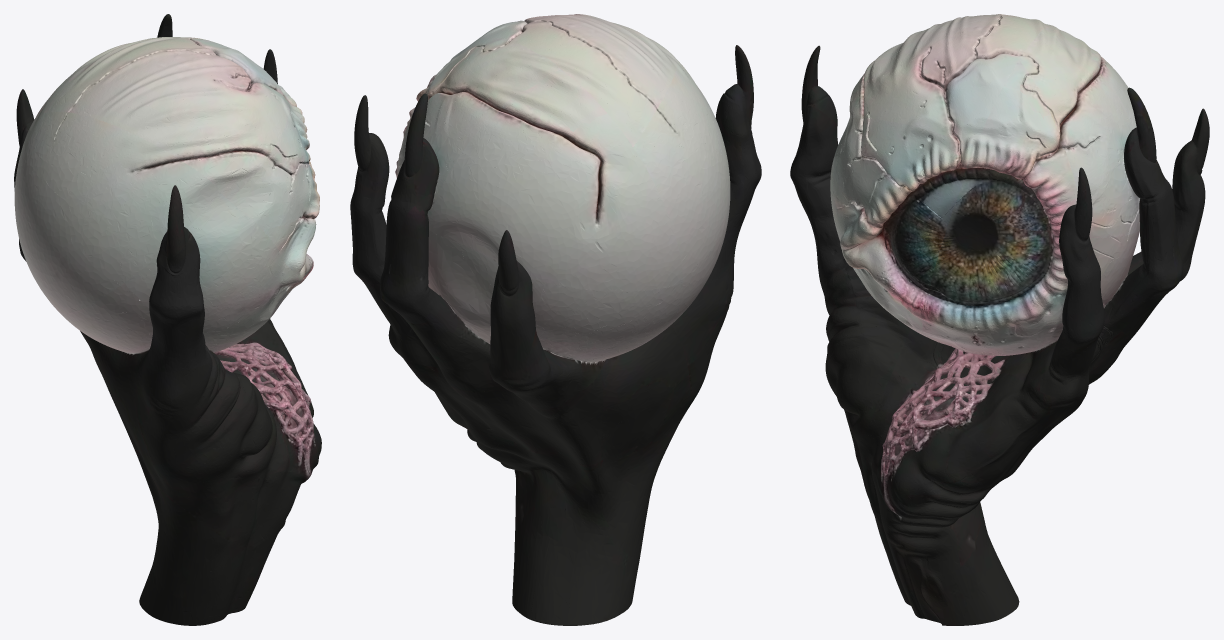
The model's file is handeye.glb.
3 renders of one model, left to right at view 1: azimuth 30°, elevation 25°; view 2: azimuth 150°, elevation 25°; view 3: azimuth 270°, elevation 25°, orthographic. The views are drawn at different scales.
Parts seen in each view (by area): view 1: tripo_node_585c125a-fa32-4f17-a2e5-54d5d59aff8e; view 2: tripo_node_585c125a-fa32-4f17-a2e5-54d5d59aff8e; view 3: tripo_node_585c125a-fa32-4f17-a2e5-54d5d59aff8e.
Part boxes in pixels (<box>): tripo_node_585c125a-fa32-4f17-a2e5-54d5d59aff8e: <box>14,14,321,625</box>; tripo_node_585c125a-fa32-4f17-a2e5-54d5d59aff8e: <box>350,14,761,625</box>; tripo_node_585c125a-fa32-4f17-a2e5-54d5d59aff8e: <box>790,14,1209,625</box>.
Bounding box in the file's own units: 0.5468 × 0.979 × 0.6525.
Materials: 1 (1 with a texture image).
